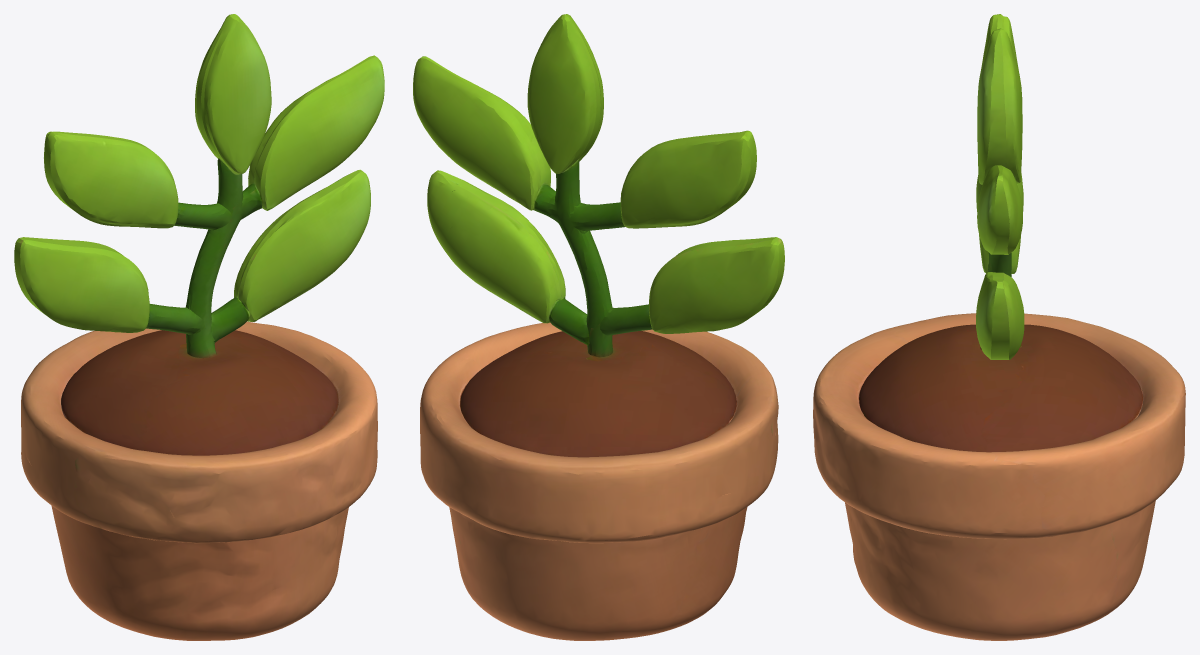
The model's file is potted_plant.glb.
3 views of the same model, side by side, from view 1: azimuth 30°, elevation 25°; view 2: azimuth 150°, elevation 25°; view 3: azimuth 270°, elevation 25° (orthographic).
Parts seen in each view (by area): view 1: model; view 2: model; view 3: model.
Boxes of the visible parts, x1,y1,x2,y2 form: model: [14, 14, 384, 640]; model: [413, 14, 784, 640]; model: [813, 14, 1185, 640].
Size of the model in its own units: 0.6688 by 1 by 0.5831.
Materials: 1 (1 with a texture image).
